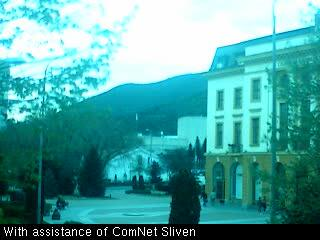person: (201, 189, 209, 209), (210, 190, 217, 207), (262, 196, 268, 215), (257, 197, 263, 214)
